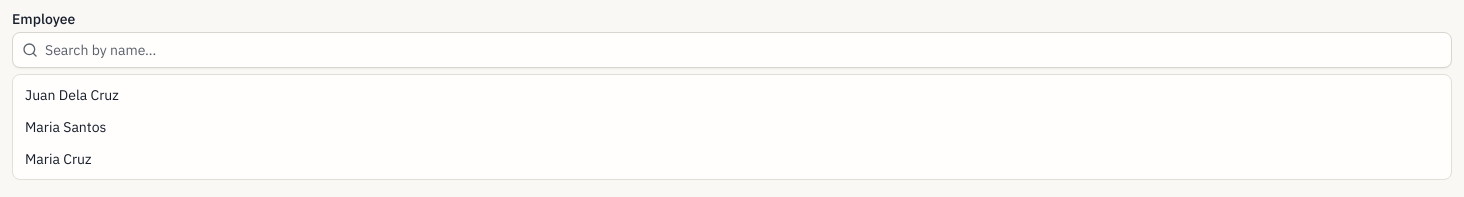
Test: SearchableOptionSelect › narrows as you type, matching every word in any order
Type "cruz maria" into the dropdown with placeholder "Search by name…" at (732, 50), box [12,32,1452,68]
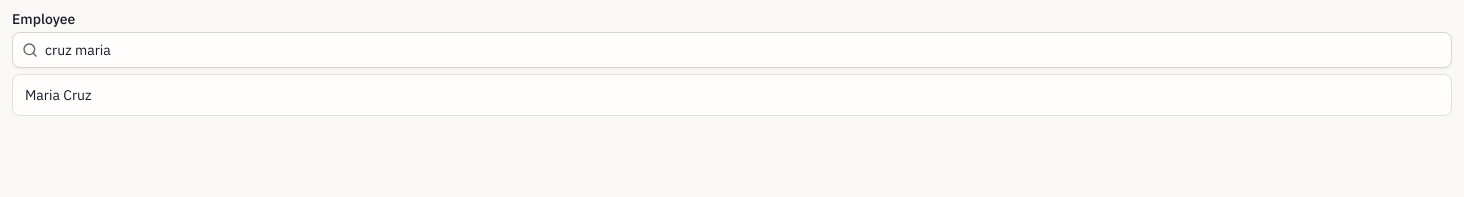
Expected: the options read "Maria Cruz", in this order, [17,79,1447,111]
